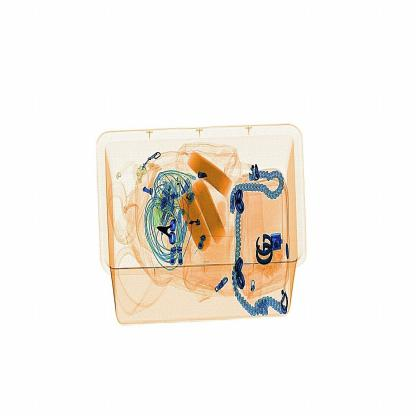gun: (154, 217, 182, 249)
